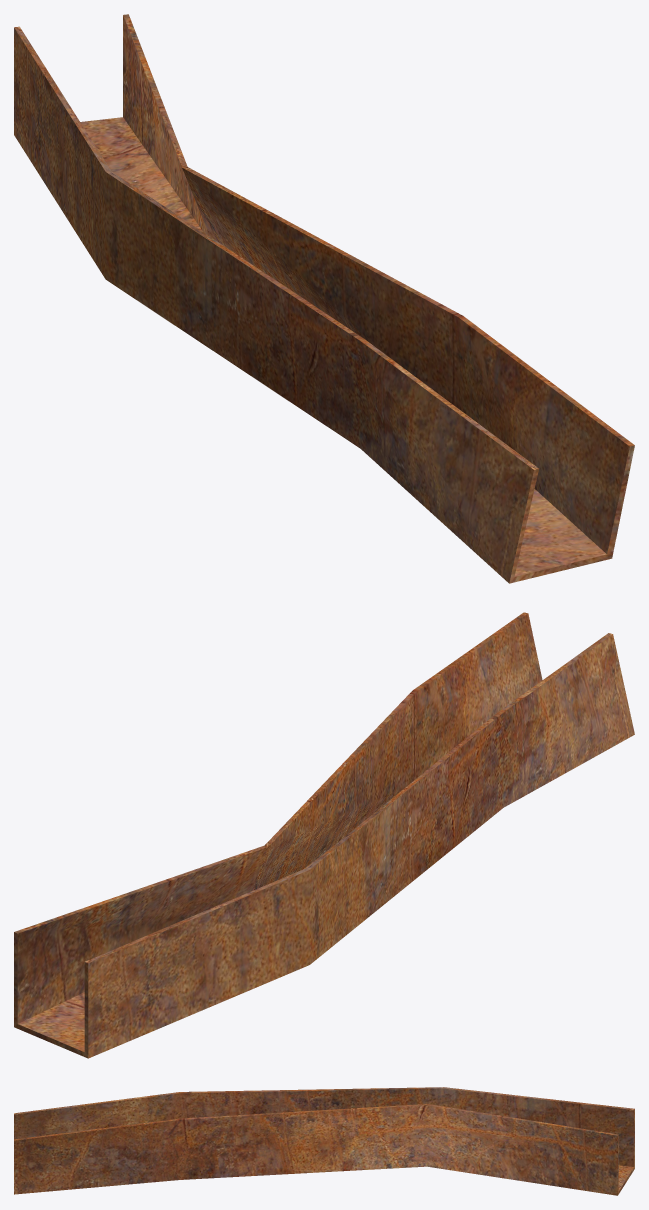
Rendered from Metal_Bar_C_3.fbx.
3 views of the same model, one above another, from view 1: azimuth 30°, elevation 25°; view 2: azimuth 150°, elevation 25°; view 3: azimuth 270°, elevation 25° (orthographic). The views are drawn at different scales.
Parts seen in each view (by area): view 1: pCube5; view 2: pCube5; view 3: pCube5.
Boxes of the visible parts, x1=… form: pCube5: x1=14, y1=14, x2=634, y2=583; pCube5: x1=14, y1=612, x2=634, y2=1058; pCube5: x1=14, y1=1087, x2=634, y2=1195.
Size of the model in its own units: 1.74 by 1.24 by 9.37.
